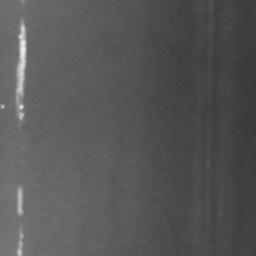Bright scratch: (14, 18, 28, 123), (15, 186, 26, 218), (18, 228, 24, 256)
